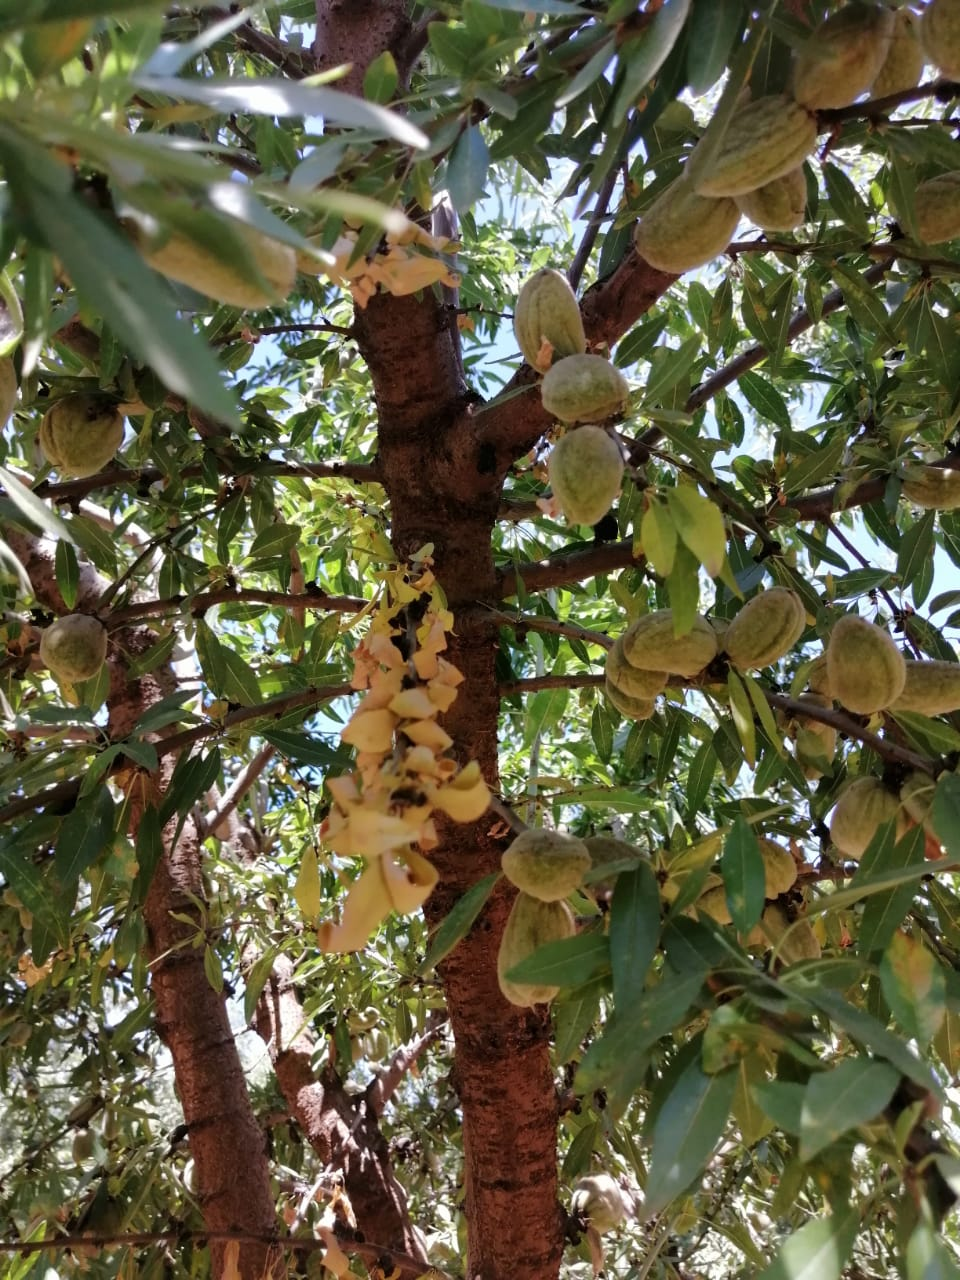chancre fusicocum: (290, 544, 490, 954), (333, 238, 467, 311)
